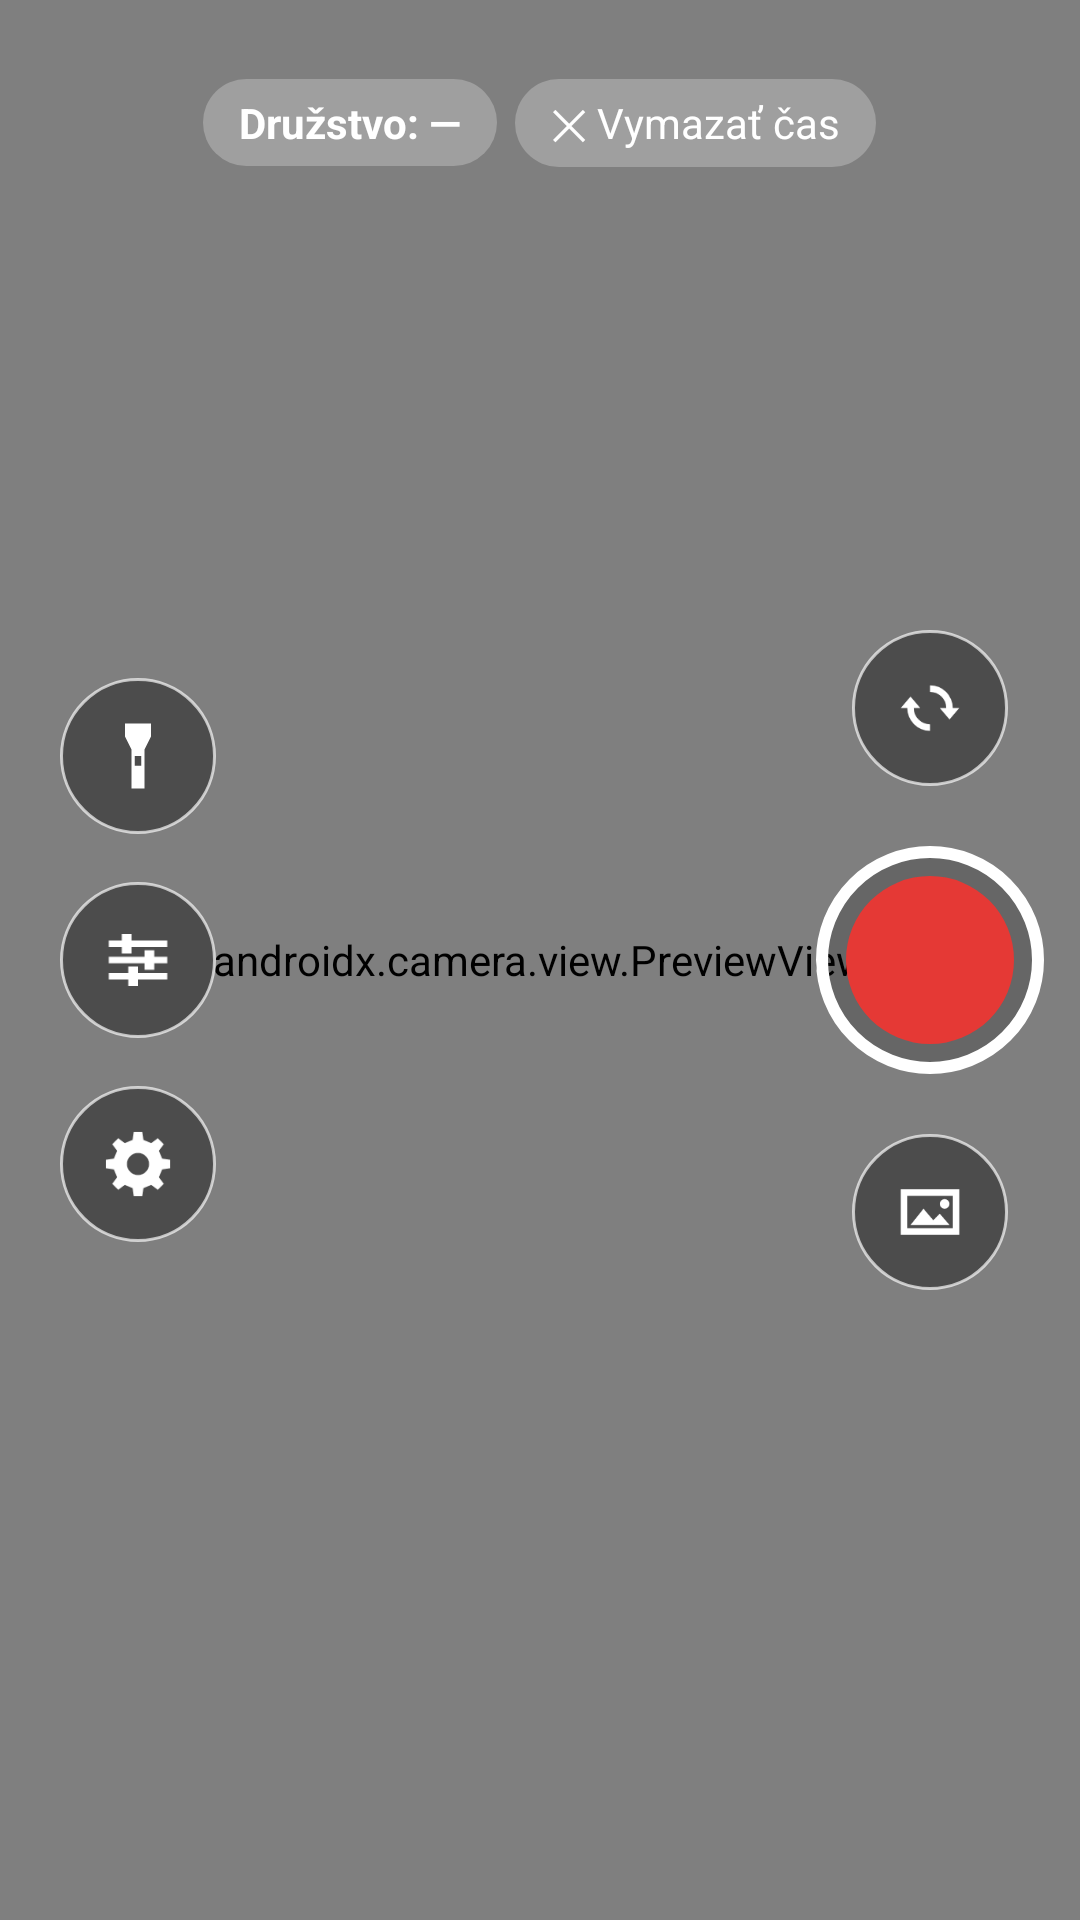

Icon click points for this 1080w x 1920h phone screenshot, format [x,y]:
Galéria: [930,1212]
Manuálne nastavenia: [138,960]
Nastavenia: [138,1164]
Prepnúť kameru: [930,708]
Svetlo: [138,756]
